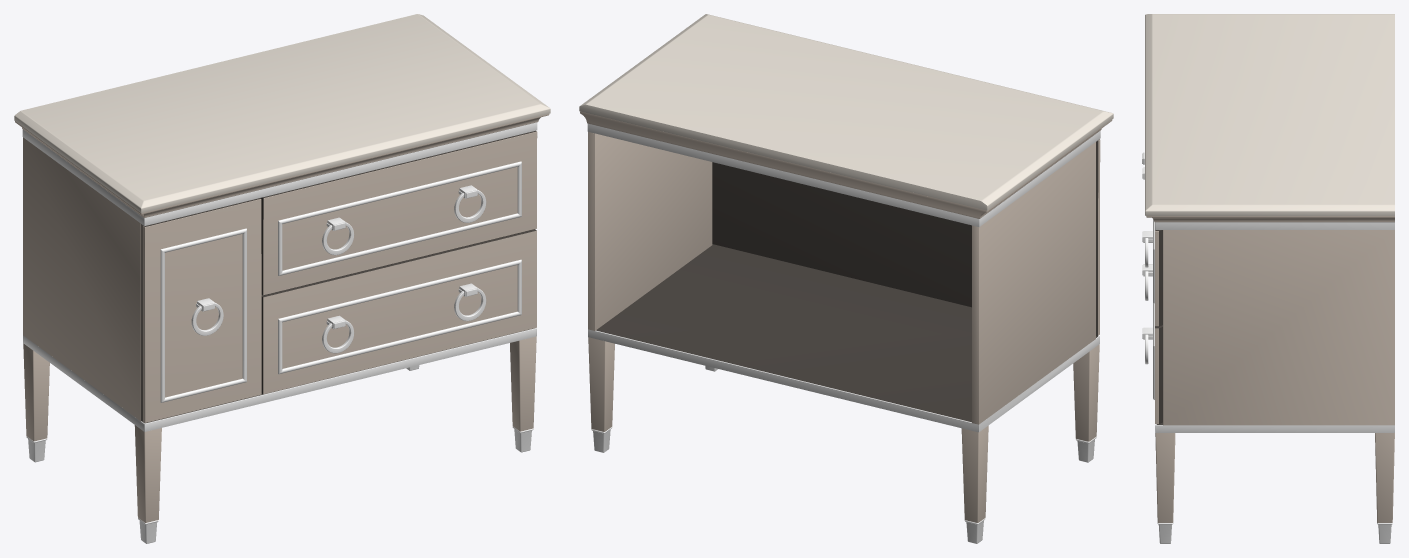
3 views of the same model, side by side, from view 1: azimuth 30°, elevation 25°; view 2: azimuth 150°, elevation 25°; view 3: azimuth 270°, elevation 25° (orthographic).
Parts seen in each view (by area): view 1: AV07; view 2: AV07; view 3: AV07.
Part boxes in pixels (x1,y1,x2,y2): AV07: (14,14,550,543); AV07: (579,14,1113,543); AV07: (1142,14,1394,543).
Bounding box in the file's own units: 1.04 × 0.847 × 0.567.
6 materials, 1 textured.
